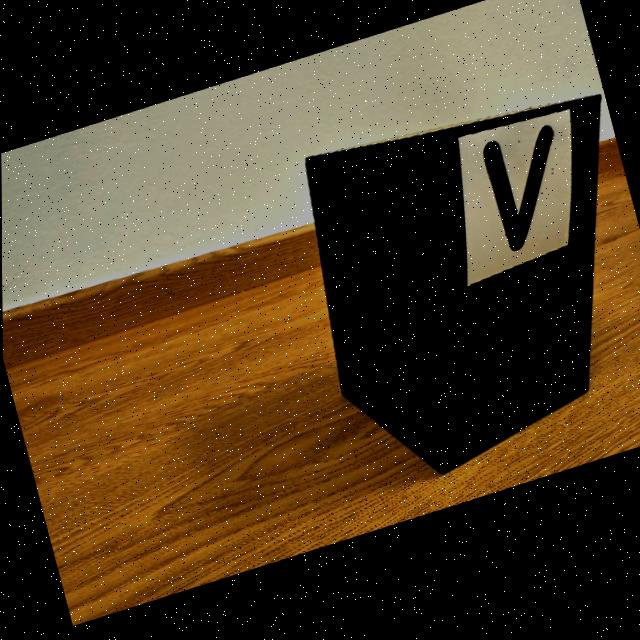V: (483, 133, 553, 258)
